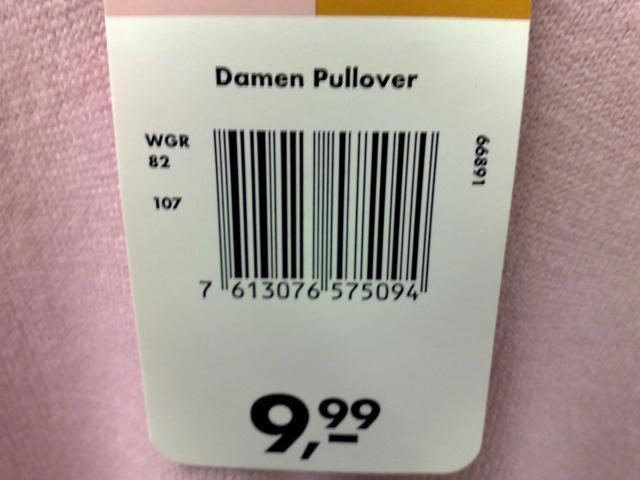Barcode: (192, 119, 445, 305)
